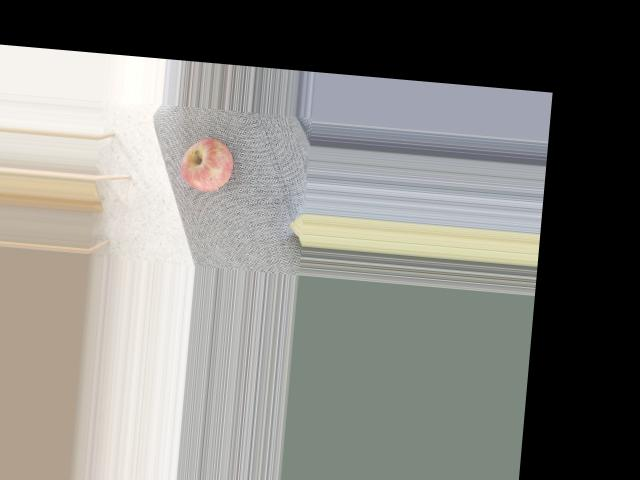apple: (176, 132, 240, 195)
